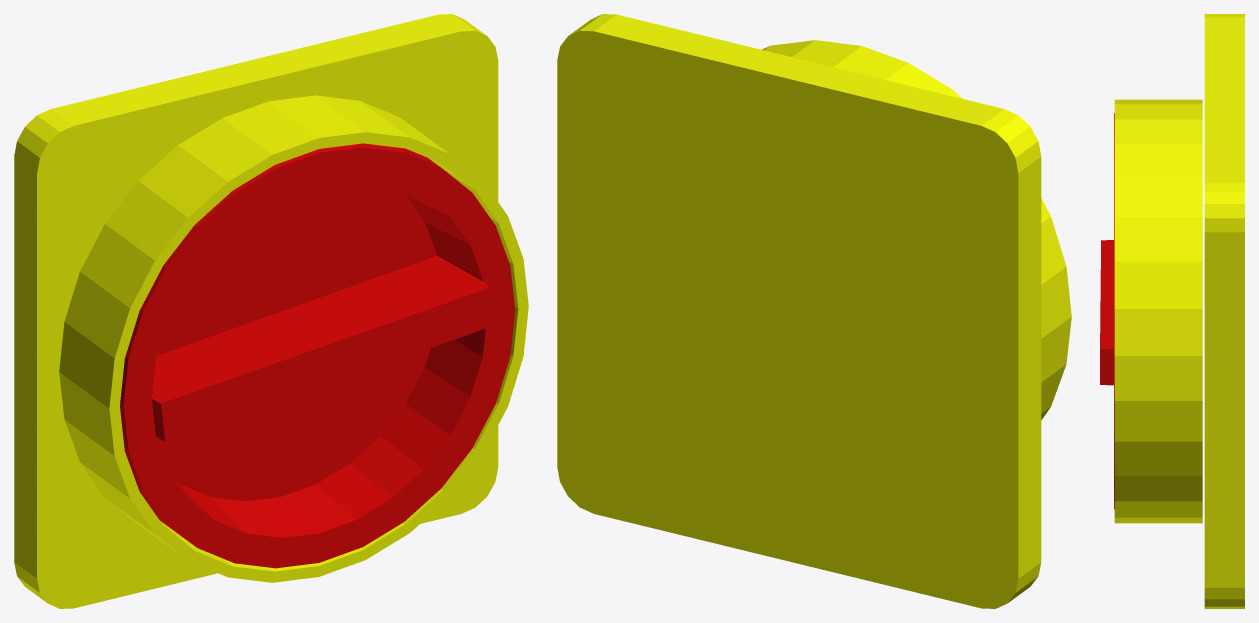
File: electirical switch.fbx
3 views of the same model, side by side, from view 1: azimuth 30°, elevation 25°; view 2: azimuth 150°, elevation 25°; view 3: azimuth 270°, elevation 25° (orthographic). The views are drawn at different scales.
Visible parts, largest first — view 1: Cylinder.002, Cylinder; view 2: Cylinder; view 3: Cylinder, Cylinder.002.
Boxes of the visible parts, left/top/right/bottom form: Cylinder.002: left=120, top=143, right=515, bottom=568; Cylinder: left=14, top=14, right=528, bottom=608; Cylinder: left=557, top=14, right=1071, bottom=608; Cylinder: left=1114, top=14, right=1244, bottom=608; Cylinder.002: left=1100, top=113, right=1114, bottom=509.
Bounding box in the file's own units: 88.97 × 88.97 × 27.67.
